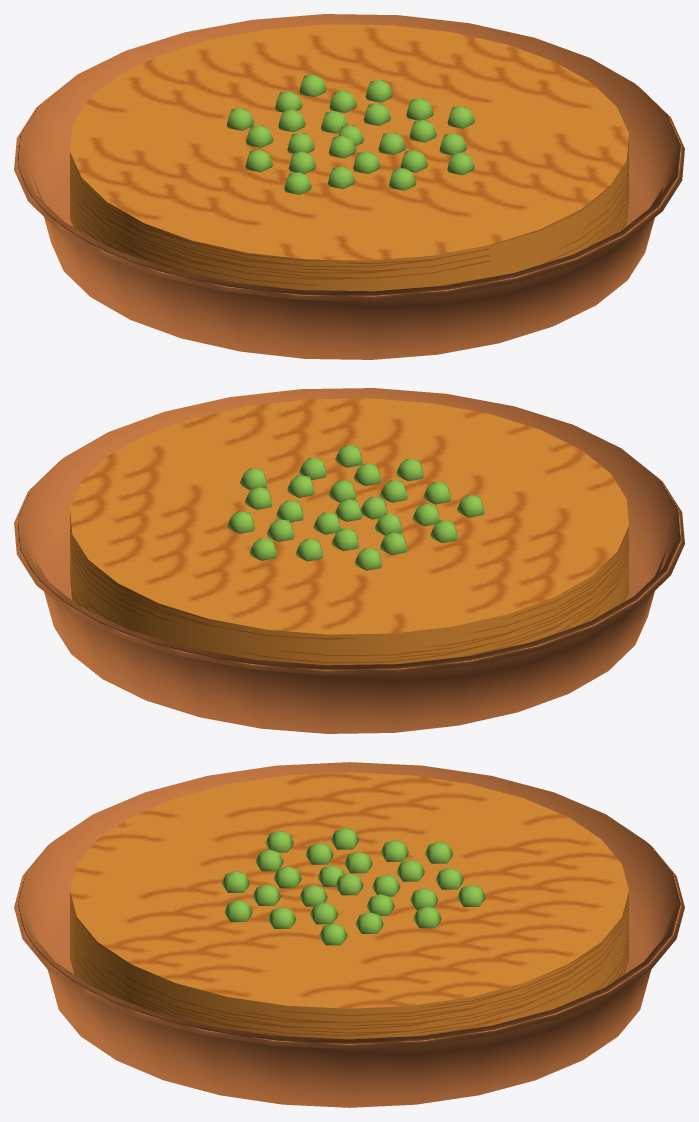
Rendered from kunefe.glb.
3 renders of one model, top to bottom at view 1: azimuth 30°, elevation 25°; view 2: azimuth 150°, elevation 25°; view 3: azimuth 270°, elevation 25°, orthographic.
Parts seen in each view (by area): view 1: kunefe; view 2: kunefe; view 3: kunefe.
Part boxes in pixels (left/top/right/bottom): kunefe: left=14, top=14, right=684, bottom=359; kunefe: left=14, top=388, right=684, bottom=733; kunefe: left=14, top=762, right=684, bottom=1107.
Bounding box in the file's own units: 0.18 × 0.032 × 0.18.
Materials: 3 (1 with a texture image).
